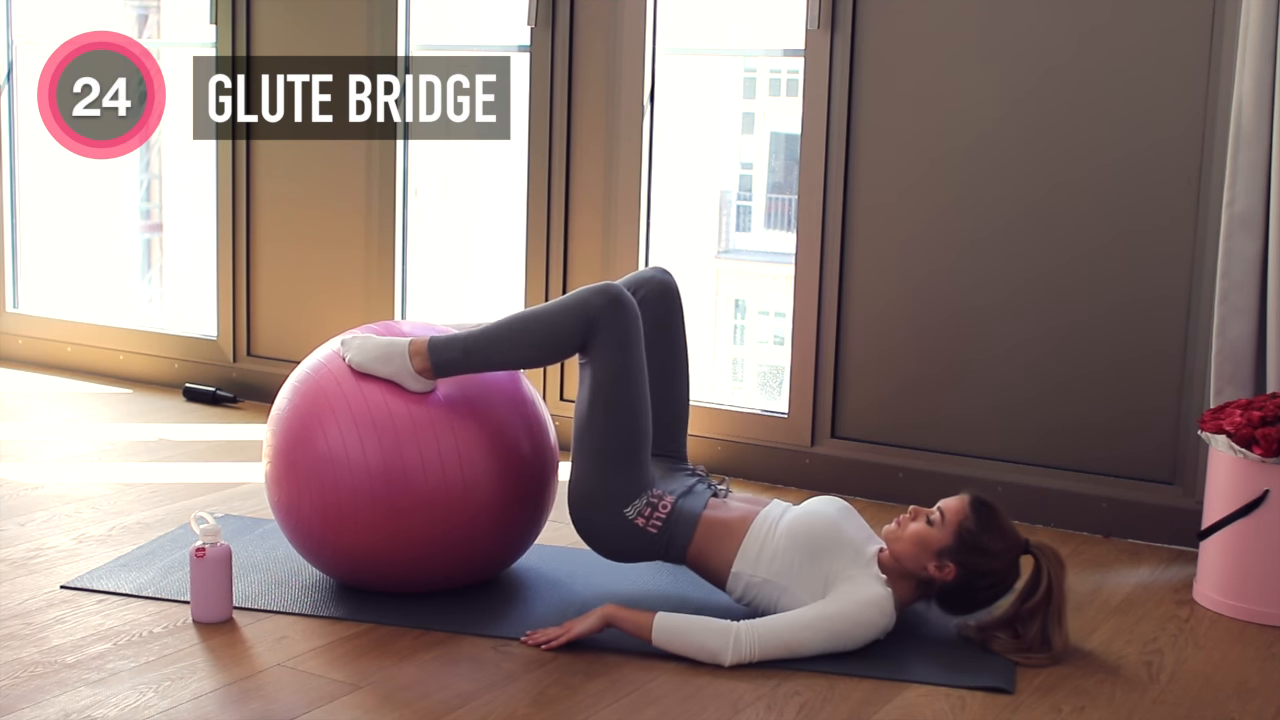yogaball: (257, 314, 565, 607)
